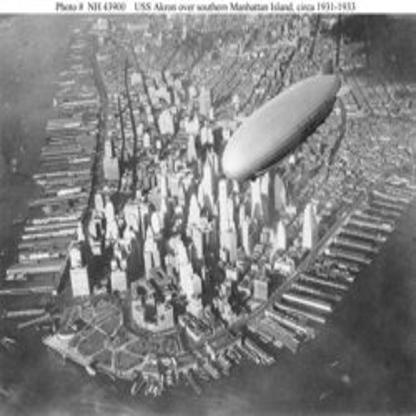Airship: (221, 65, 344, 190)
